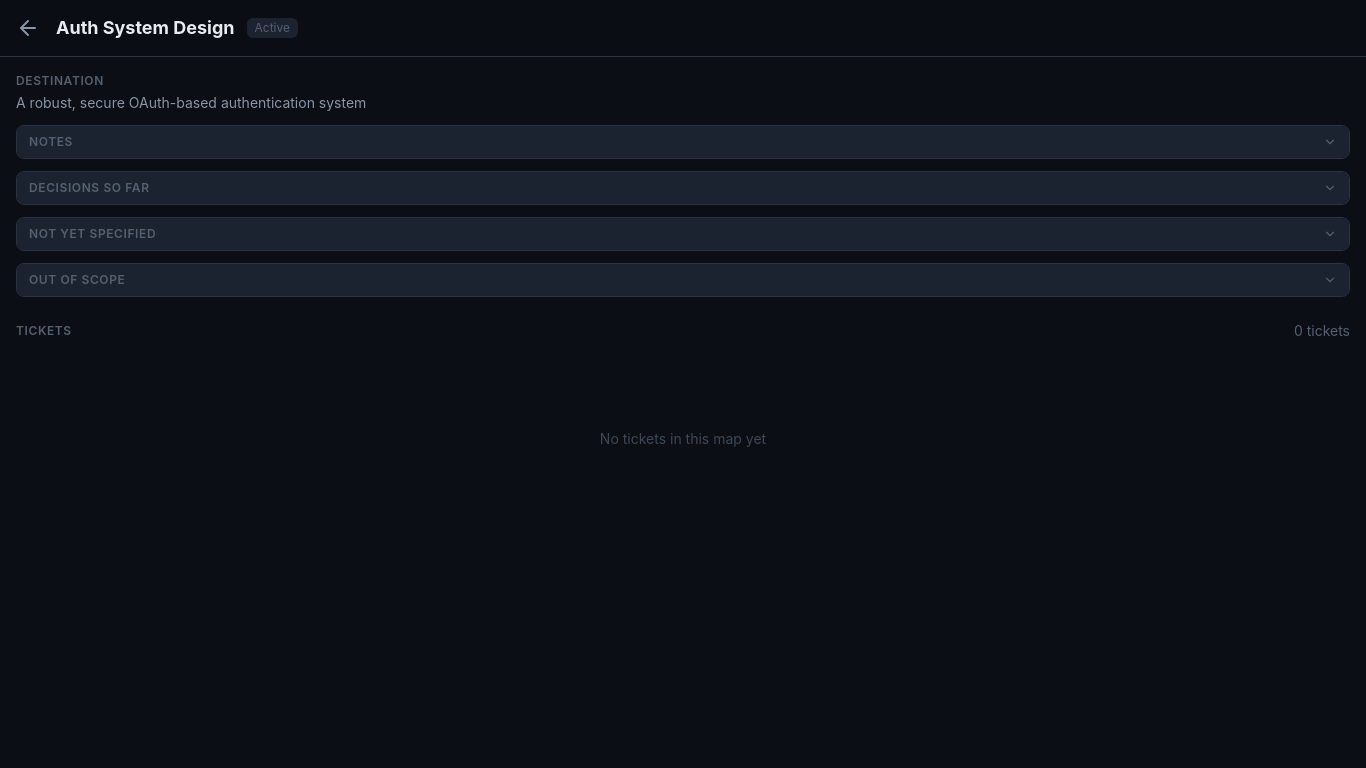
WayfinderMapView › collapses an expanded section on second click
What coordinates should you click on to do the following:
click the button "Notes"
I would click on:
 (51, 142)
Its box is [17,126,1349,158].
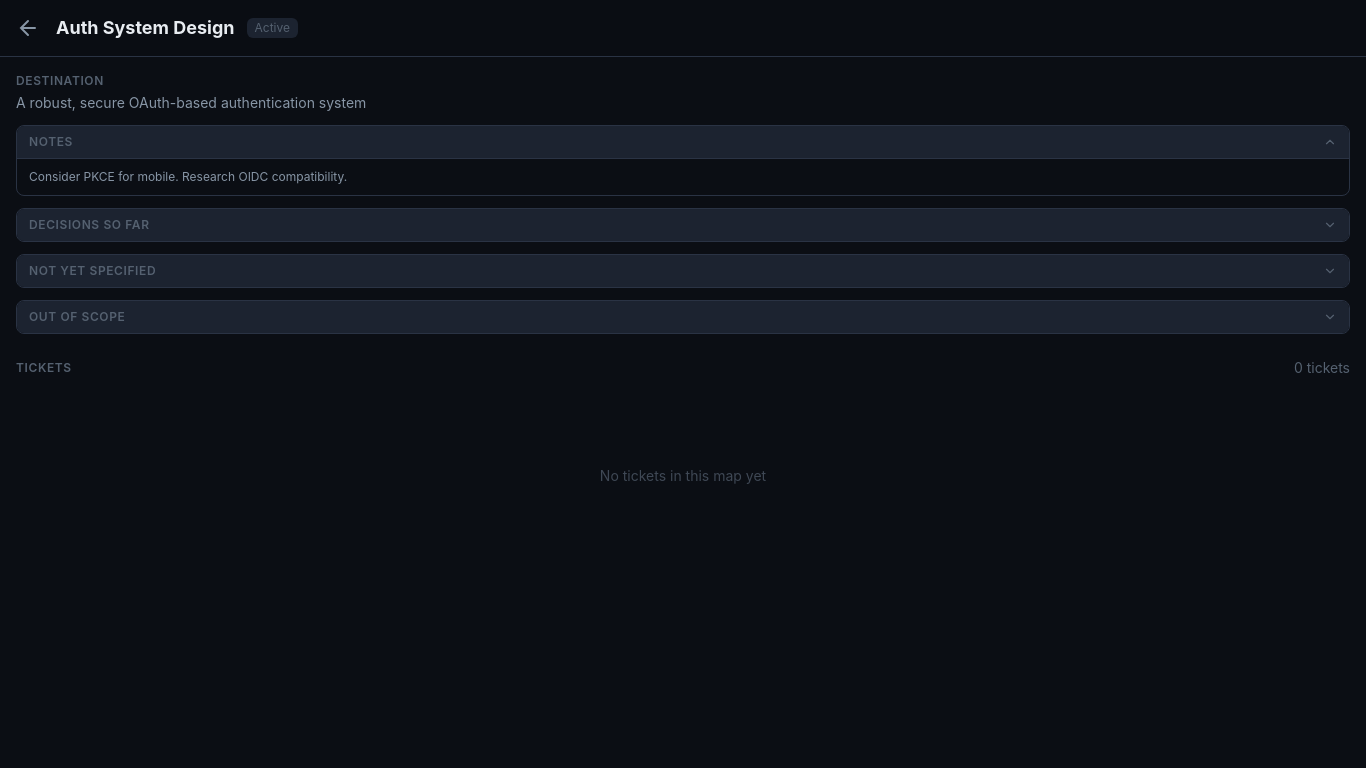
Now the text "Consider PKCE for mobile. Research OIDC compatibility." is shown, box [29,169,347,184]
What coordinates should you click on to do the following:
click the button "Notes"
I would click on:
 (51, 142)
Its box is [17,126,1349,158].
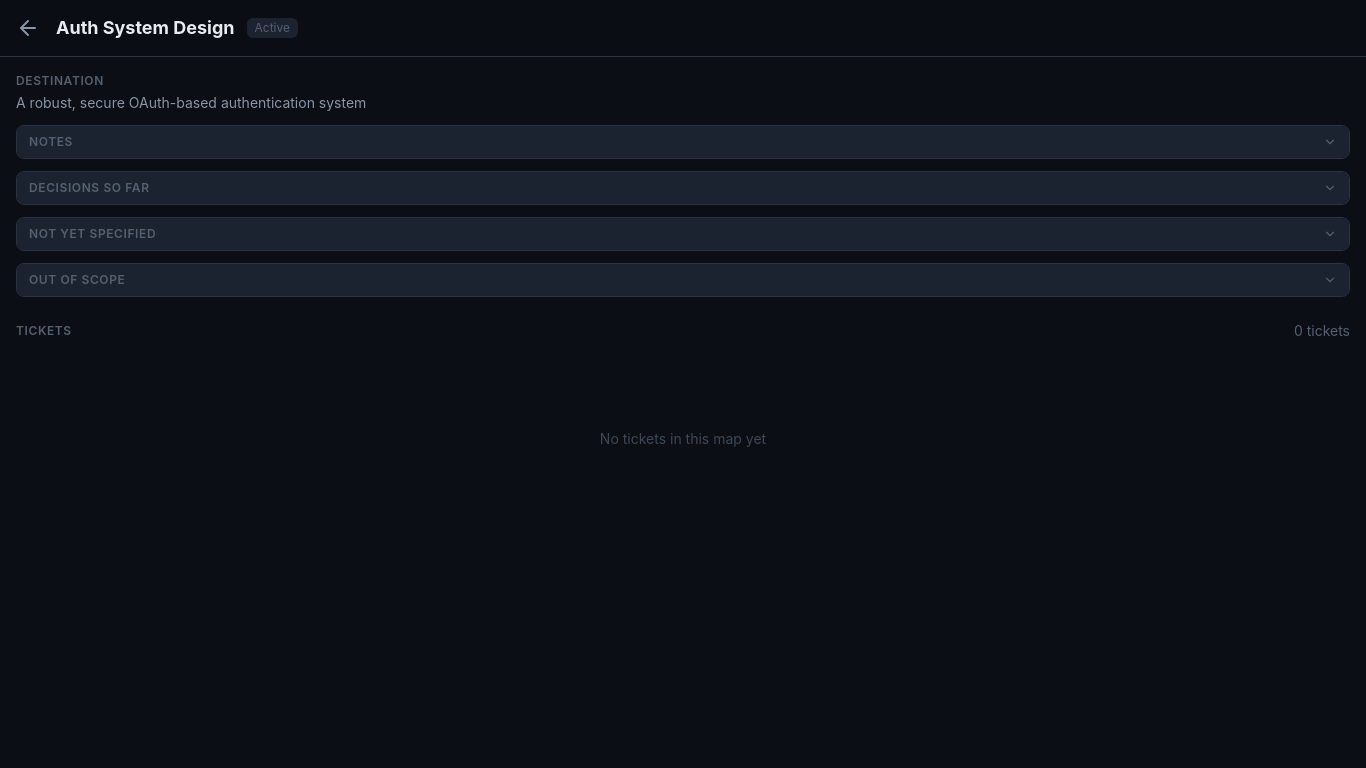
Now the text "Consider PKCE for mobile. Research OIDC compatibility." is gone
